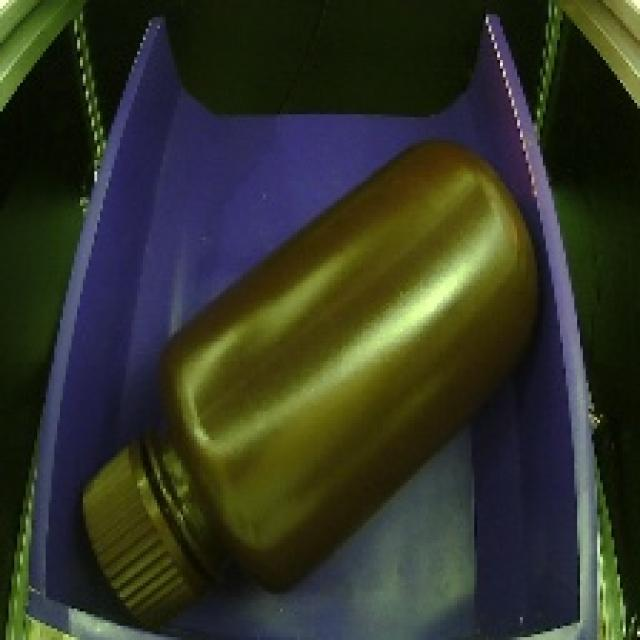plastic: (68, 128, 561, 629)
